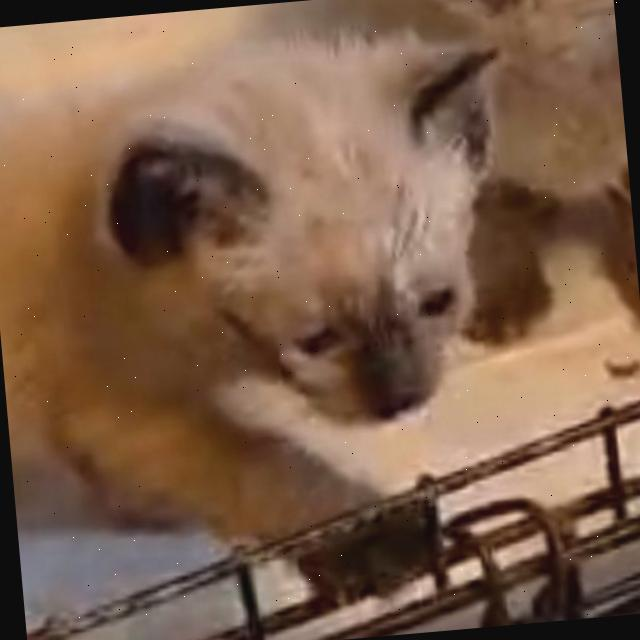siamese_cat: (78, 0, 553, 477)
